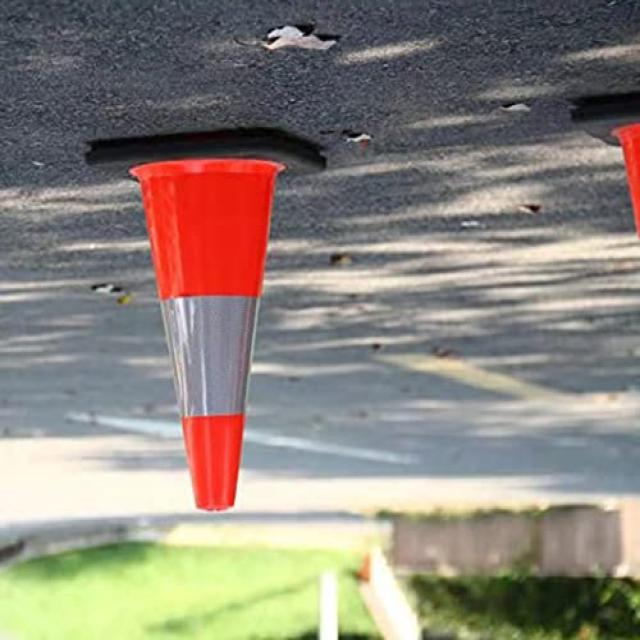cone: (71, 108, 337, 536)
